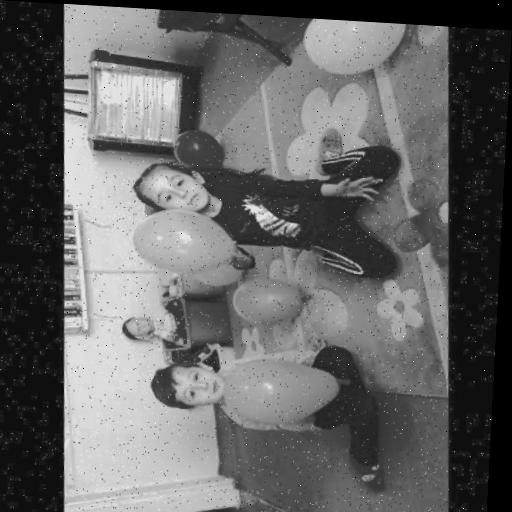balloon: (214, 355, 339, 428), (126, 205, 239, 277), (301, 18, 403, 80), (226, 273, 307, 330), (168, 128, 228, 170), (188, 258, 245, 288)
